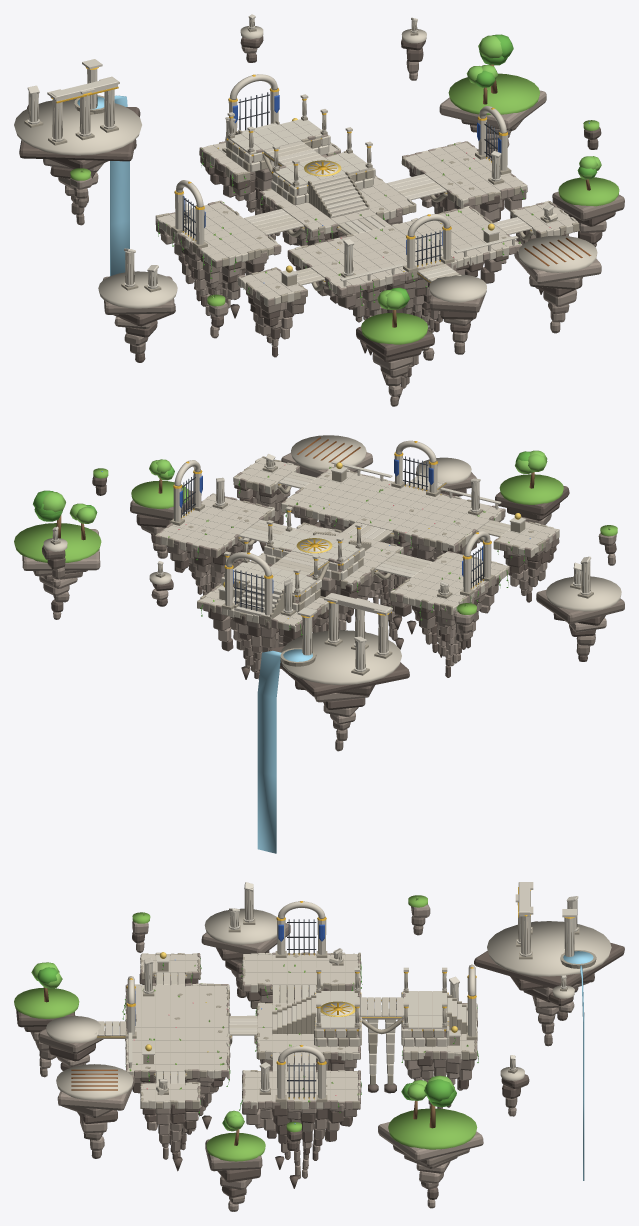
The model's file is arene-ciel.glb.
3 renders of one model, top to bottom at view 1: azimuth 30°, elevation 25°; view 2: azimuth 150°, elevation 25°; view 3: azimuth 270°, elevation 25°, orthographic. The views are drawn at different scales.
Visible parts, largest first — view 1: ilot_dessus, ilot_dessus.001, eau_chute, ilot_dessus.004, ilot_dessus.002, ilot_dessus.006, ilot_dessus.003, ilot_dessus.005, ilot_roche, ilot_roche.009, ilot_roche.024, ilot_roche.030 (+4 smaller); view 2: eau_chute, ilot_dessus, ilot_dessus.001, ilot_dessus.004, ilot_dessus.002, ilot_dessus.006, ilot_roche, ilot_dessus.003, ilot_roche.017, ilot_dessus.005, ilot_roche.009, ilot_roche.043 (+1 smaller); view 3: ilot_dessus, ilot_dessus.001, ilot_dessus.004, ilot_dessus.002, ilot_dessus.006, ilot_roche, ilot_dessus.003, ilot_dessus.005, ilot_roche.009, ilot_roche.030, ilot_roche.017, ilot_roche.024 (+2 smaller).
Boxes of the visible parts, box(x1,y1,x2,y2) form: ilot_dessus: box(14, 98, 141, 155); ilot_dessus.001: box(448, 73, 539, 115); eau_chute: box(110, 95, 129, 275); ilot_dessus.004: box(518, 235, 597, 272); ilot_dessus.002: box(98, 271, 177, 308); ilot_dessus.006: box(361, 312, 427, 344); ilot_dessus.003: box(558, 177, 619, 206); ilot_dessus.005: box(429, 274, 486, 302); ilot_roche: box(19, 105, 140, 161); ilot_roche.009: box(439, 90, 546, 130); ilot_roche.024: box(552, 191, 624, 221); ilot_roche.030: box(514, 250, 601, 283); eau_chute: box(257, 650, 281, 853); ilot_dessus: box(280, 630, 401, 685); ilot_dessus.001: box(14, 523, 101, 562); ilot_dessus.004: box(291, 435, 366, 469); ilot_dessus.002: box(546, 576, 621, 611); ilot_dessus.006: box(499, 474, 563, 504); ilot_roche: box(269, 631, 409, 696); ilot_dessus.003: box(131, 481, 188, 508); ilot_roche.017: box(536, 589, 624, 623); ilot_dessus.005: box(416, 457, 471, 484); ilot_roche.009: box(22, 529, 100, 570); ilot_roche.043: box(495, 485, 569, 515); ilot_dessus: box(487, 921, 611, 976); ilot_dessus.001: box(388, 1108, 477, 1149); ilot_dessus.004: box(56, 1064, 133, 1100); ilot_dessus.002: box(204, 908, 276, 944); ilot_dessus.006: box(14, 988, 79, 1018); ilot_roche: box(474, 921, 624, 988); ilot_dessus.003: box(206, 1132, 265, 1161); ilot_dessus.005: box(46, 1016, 100, 1043); ilot_roche.009: box(378, 1108, 483, 1161); ilot_roche.030: box(57, 1074, 134, 1110); ilot_roche.017: box(201, 923, 290, 953); ilot_roche.024: box(205, 1139, 262, 1171).
Size of the model in its own units: 41.34 by 19.61 by 41.94.
